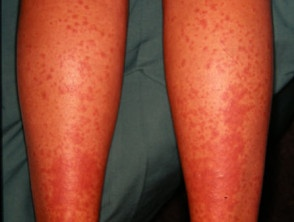SJS-TEN: (6, 0, 130, 222), (157, 0, 280, 222)
